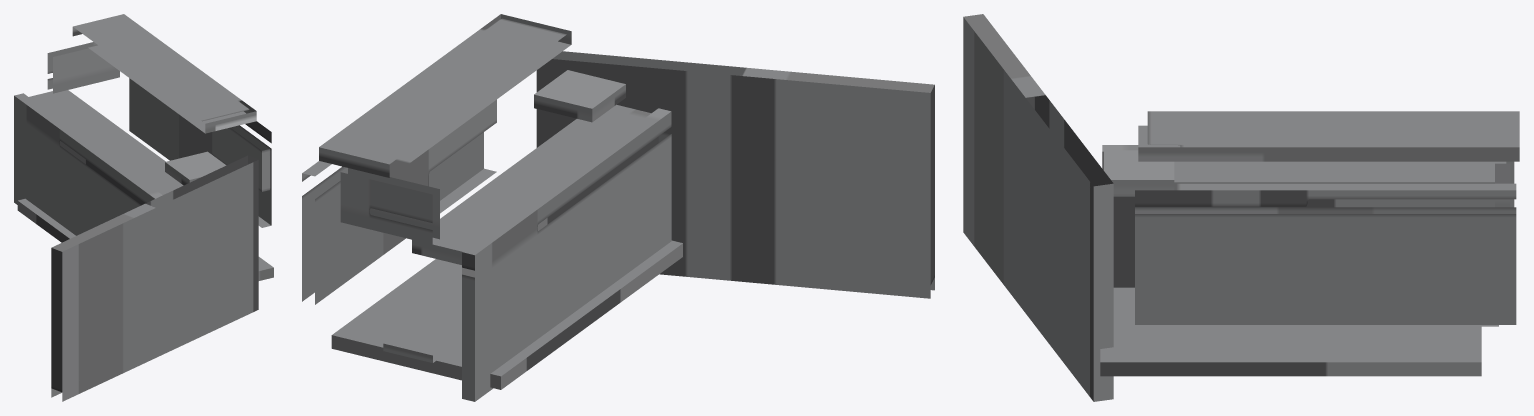
3 views of the same model, side by side, from view 1: azimuth 30°, elevation 25°; view 2: azimuth 150°, elevation 25°; view 3: azimuth 270°, elevation 25° (orthographic). The views are drawn at different scales.
Bounding box in the file's own units: 1.18 × 0.7595 × 1.45.
